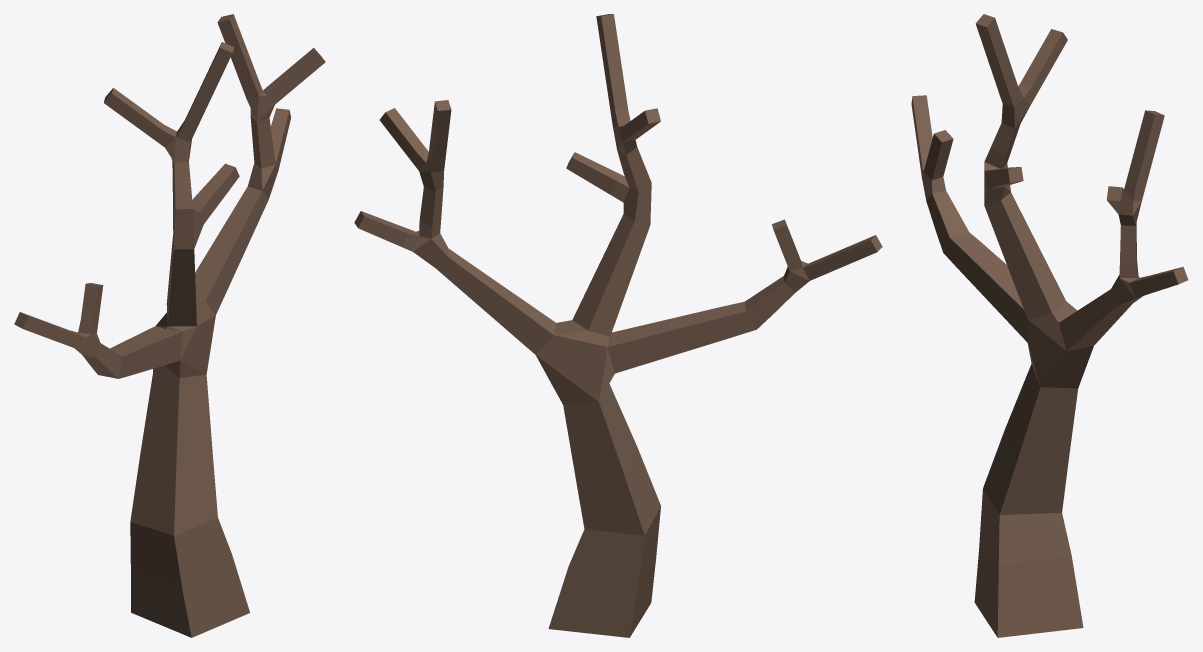
Rendered from tree_frozen1.fbx.
3 views of the same model, side by side, from view 1: azimuth 30°, elevation 25°; view 2: azimuth 150°, elevation 25°; view 3: azimuth 270°, elevation 25° (orthographic). The views are drawn at different scales.
Parts seen in each view (by area): view 1: tree_frozen1; view 2: tree_frozen1; view 3: tree_frozen1.
Boxes of the visible parts, left/top/right/bottom form: tree_frozen1: left=14, top=14, right=325, bottom=637; tree_frozen1: left=354, top=14, right=882, bottom=637; tree_frozen1: left=911, top=14, right=1188, bottom=637.
Size of the model in its own units: 3.45 by 1.98 by 4.77.
